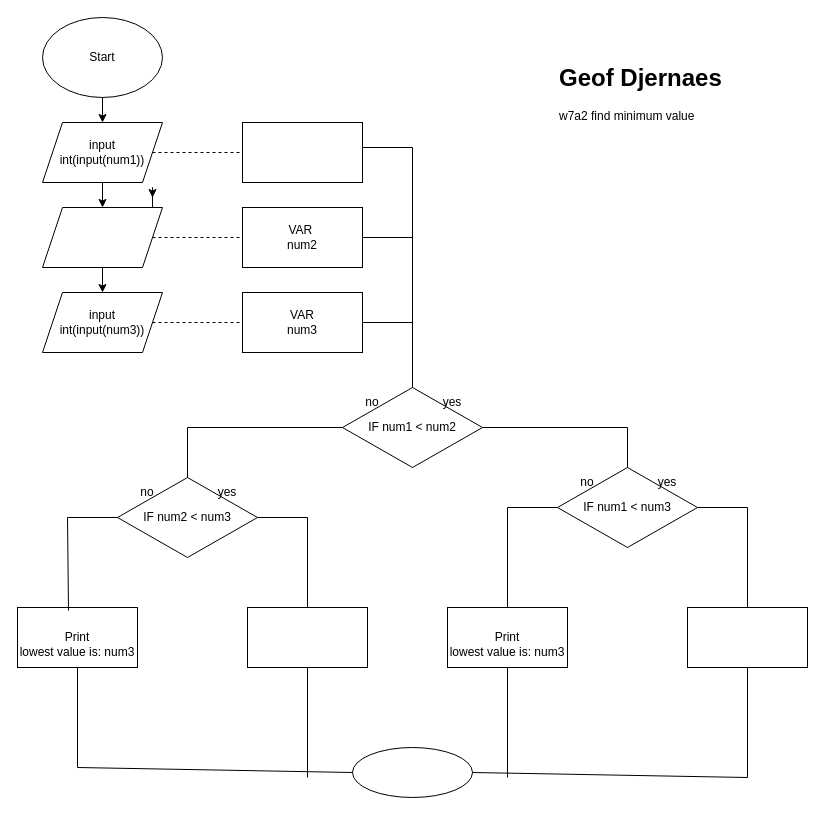
The diagram is 825 pixels wide and 815 high, and some of its shapes have lost their labels. Each missing label, with the centre of its shape:
"END" goes at (x=412, y=772).
"input int(input(num2))" goes at (x=102, y=237).
"Print lowest jvalue is: num1" goes at (x=747, y=637).
"Print lowest value is: num2" goes at (x=307, y=637).
"VAR num1" goes at (x=302, y=152).
